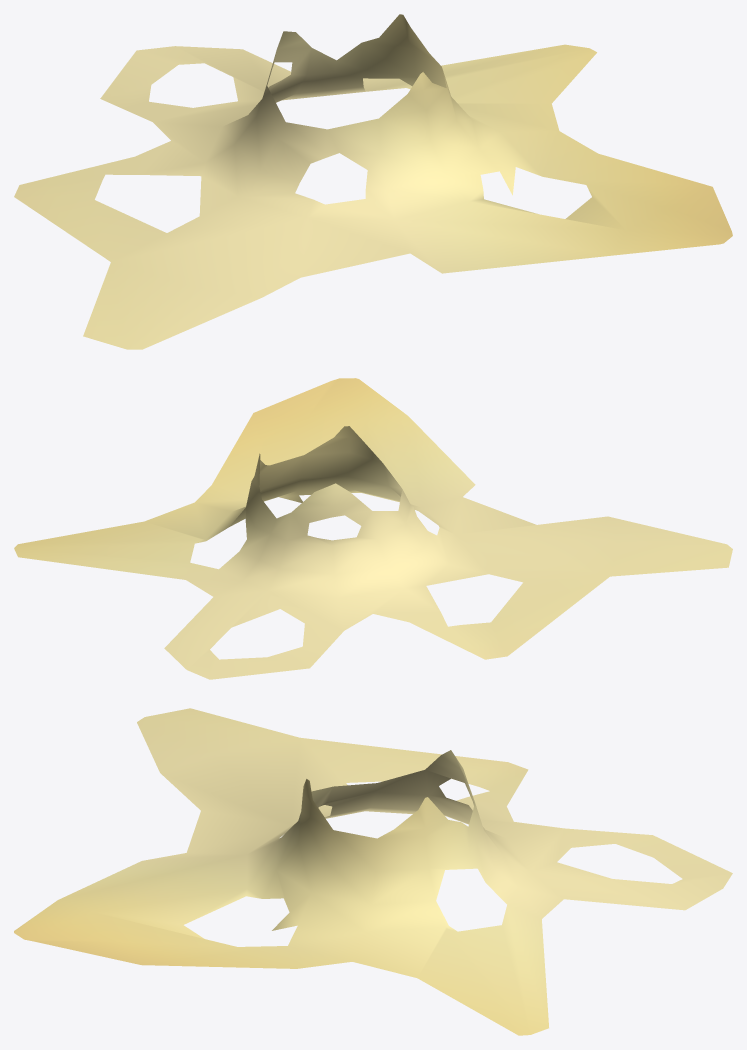
File: Egg_Web.002.fbx
The picture shows the model from 3 angles, top to bottom: view 1: azimuth 30°, elevation 25°; view 2: azimuth 150°, elevation 25°; view 3: azimuth 270°, elevation 25°; orthographic projection. The views are drawn at different scales.
Visible parts, largest first — view 1: Egg_Web.002; view 2: Egg_Web.002; view 3: Egg_Web.002.
Part boxes in pixels (<box>): Egg_Web.002: <box>14,14,732,349</box>; Egg_Web.002: <box>14,378,732,679</box>; Egg_Web.002: <box>14,708,732,1035</box>.
Size of the model in its own units: 8.73 by 1.62 by 8.39.
